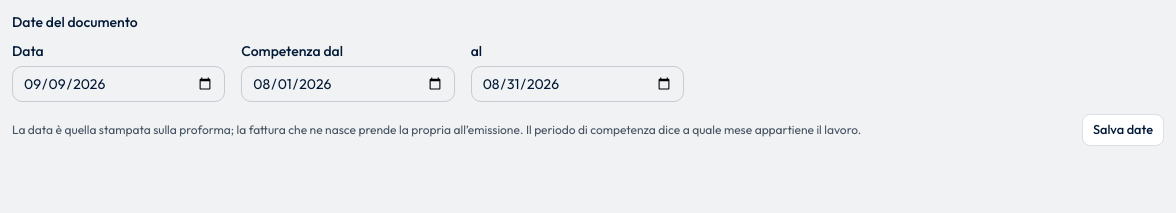
Test case: InvoiceHeaderEditor › shows the server’s own refusal when the document is frozen
The width and height of the screenshot is (1176, 213).
Step 1. Click the button "Salva date" → [1123, 130], box x1=1082 y1=114 x2=1164 y2=146
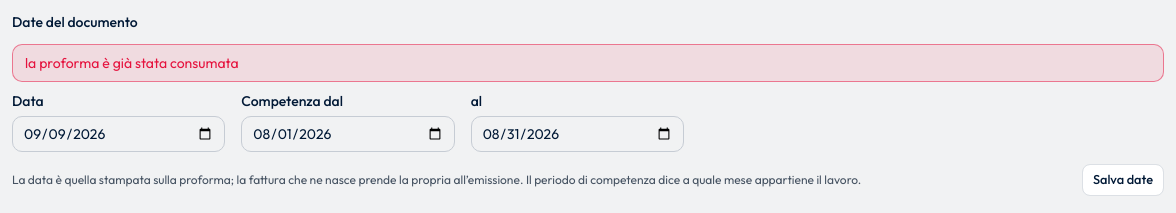
Now the message reads "la proforma è già stata consumata", box x1=25 y1=54 x2=239 y2=72
